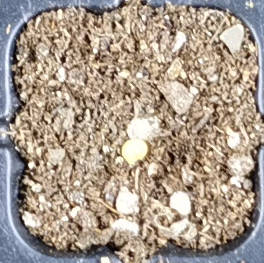pepper seed: (47, 55, 195, 221)
